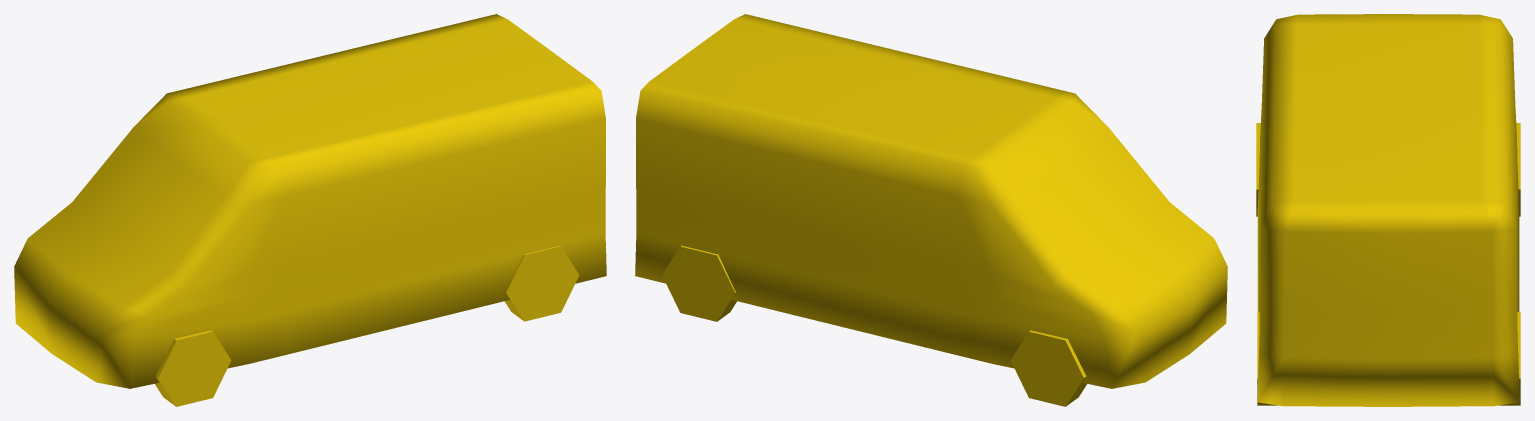
File: Van_01_Lod1.fbx
3 renders of one model, left to right at view 1: azimuth 30°, elevation 25°; view 2: azimuth 150°, elevation 25°; view 3: azimuth 270°, elevation 25°, orthographic. The views are drawn at different scales.
Visible parts, largest first — view 1: Van_01_Lod1; view 2: Van_01_Lod1; view 3: Van_01_Lod1.
Part boxes in pixels (x1,y1,x2,y2): Van_01_Lod1: (14,14,606,406); Van_01_Lod1: (635,14,1227,406); Van_01_Lod1: (1256,14,1520,406).
Size of the model in its own units: 654 by 258 by 265.
